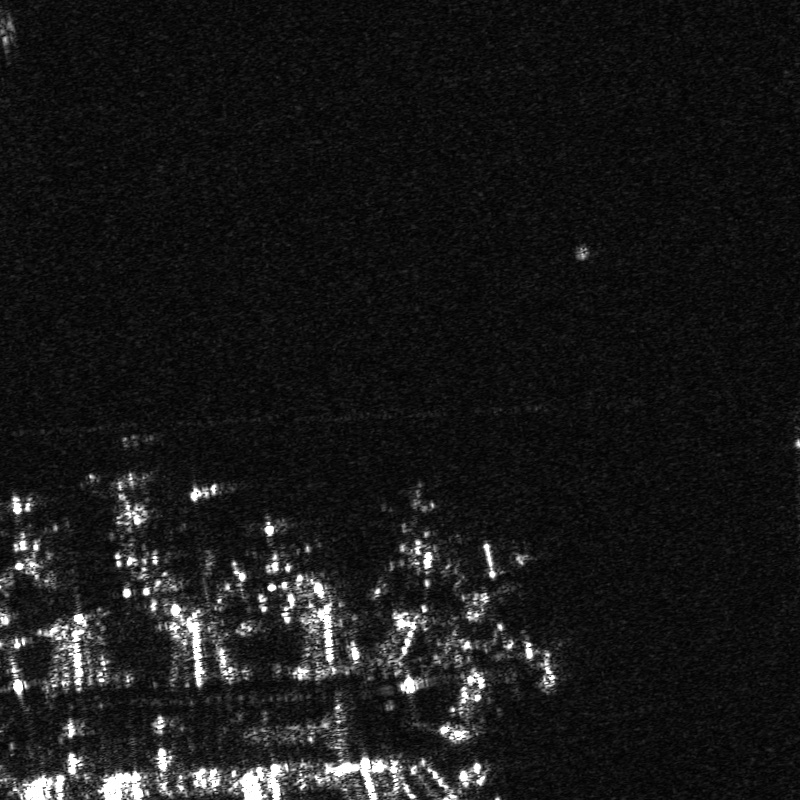A320/321: (93, 462, 186, 607), (229, 508, 342, 597), (370, 487, 460, 586)
other: (1, 482, 89, 603)
